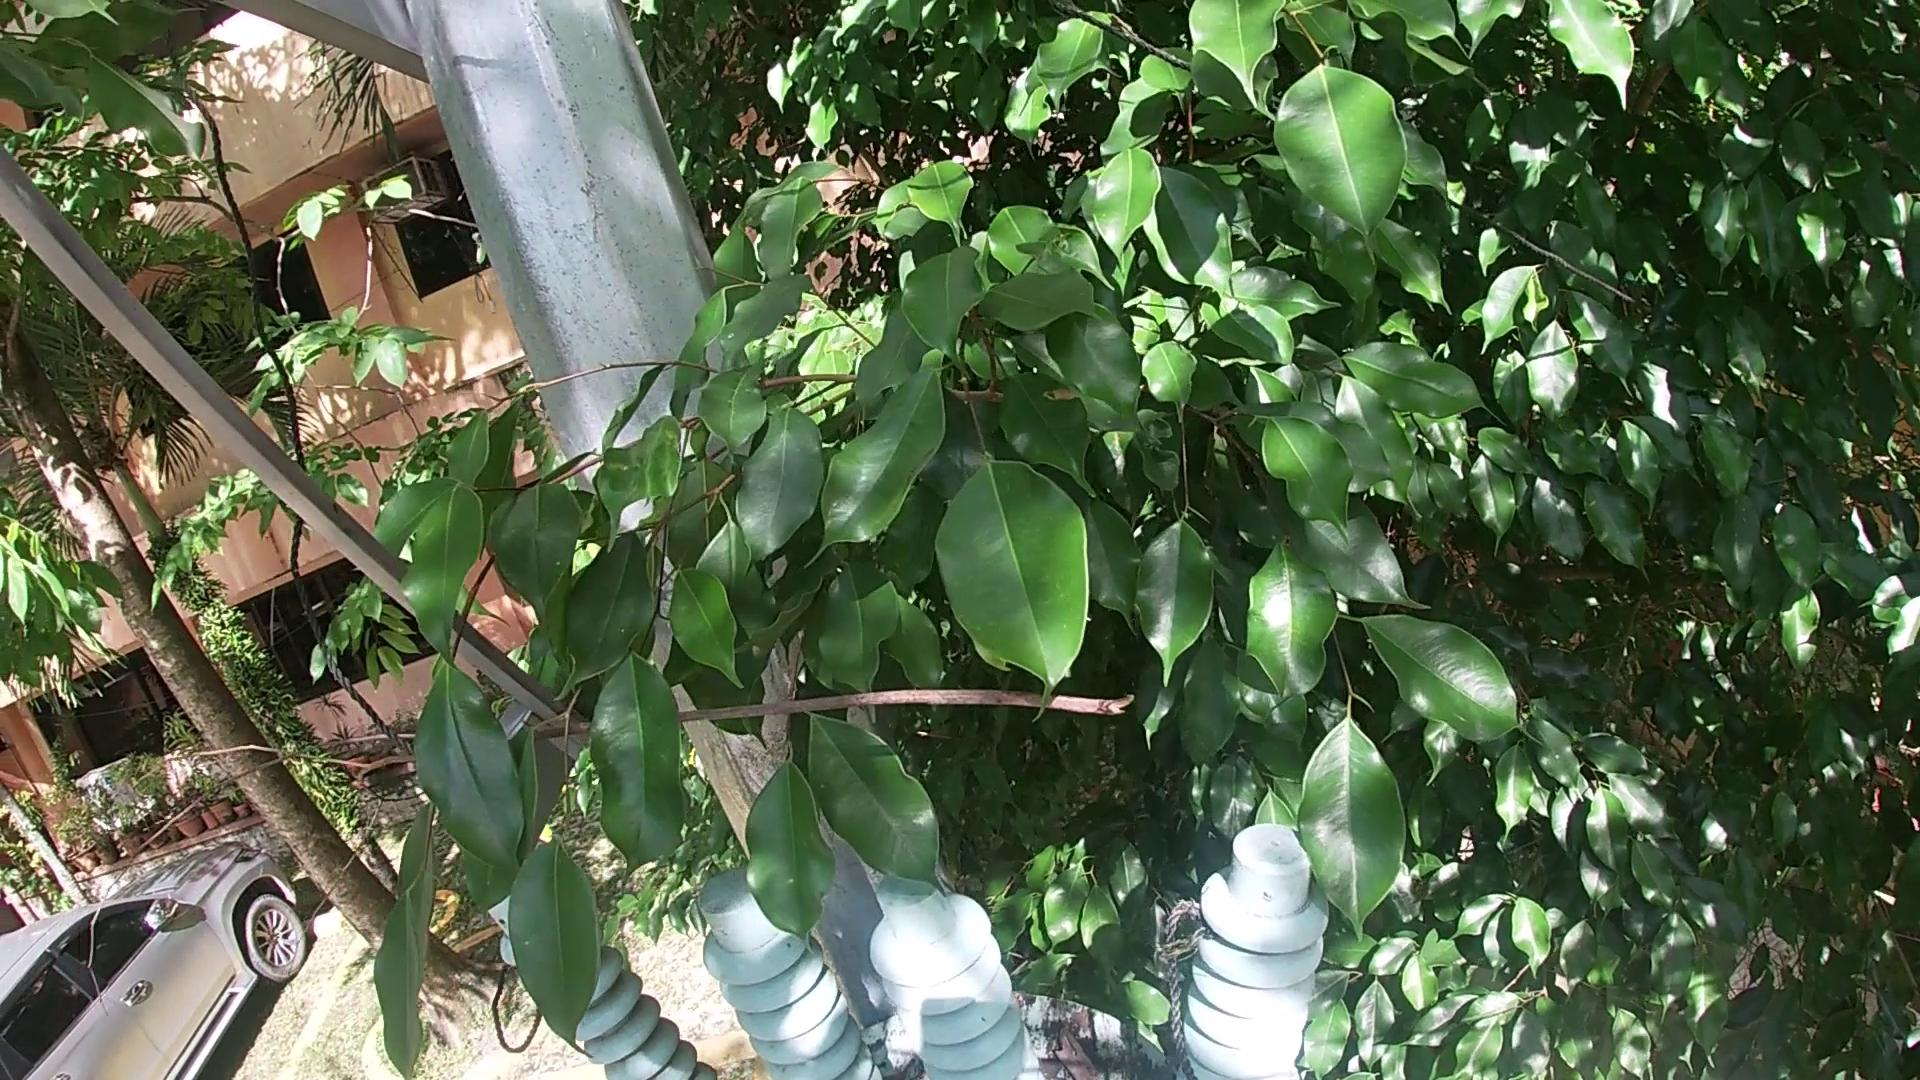tree branch: (82, 629, 1185, 1004), (1043, 1022, 1110, 1080)
